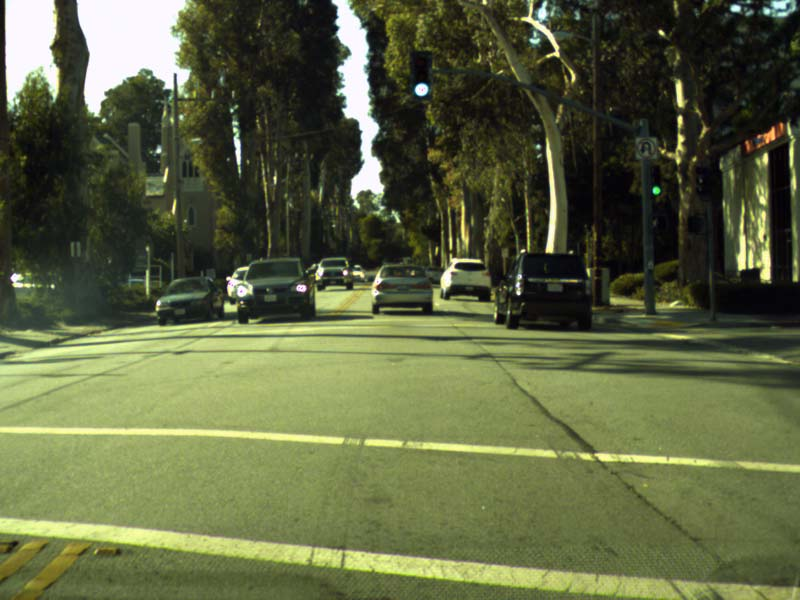Green: (410, 51, 430, 97), (649, 166, 661, 195)
